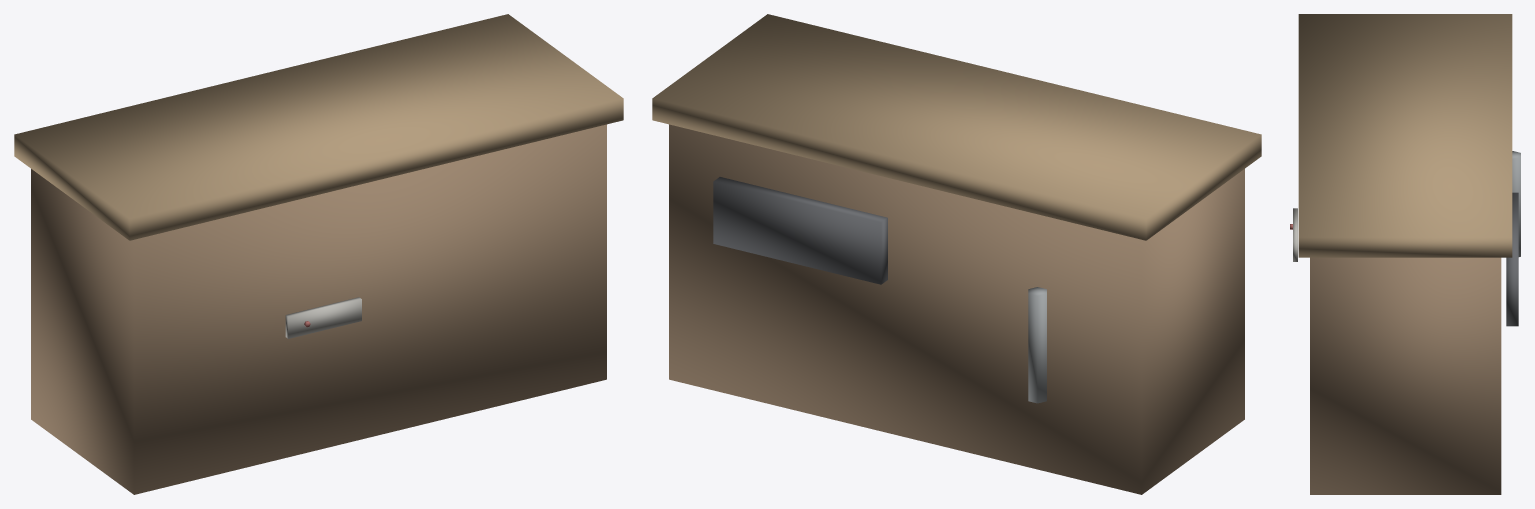
The model's file is pawn_counter__service.glb.
The picture shows the model from 3 angles, left to right: view 1: azimuth 30°, elevation 25°; view 2: azimuth 150°, elevation 25°; view 3: azimuth 270°, elevation 25°; orthographic projection. The views are drawn at different scales.
Parts seen in each view (by area): view 1: world; view 2: world; view 3: world.
Boxes of the visible parts, left/top/right/bottom form: world: left=14, top=14, right=623, bottom=494; world: left=652, top=14, right=1261, bottom=494; world: left=1290, top=14, right=1520, bottom=494.
Bounding box in the file's own units: 1.88 × 1.03 × 0.8213.
